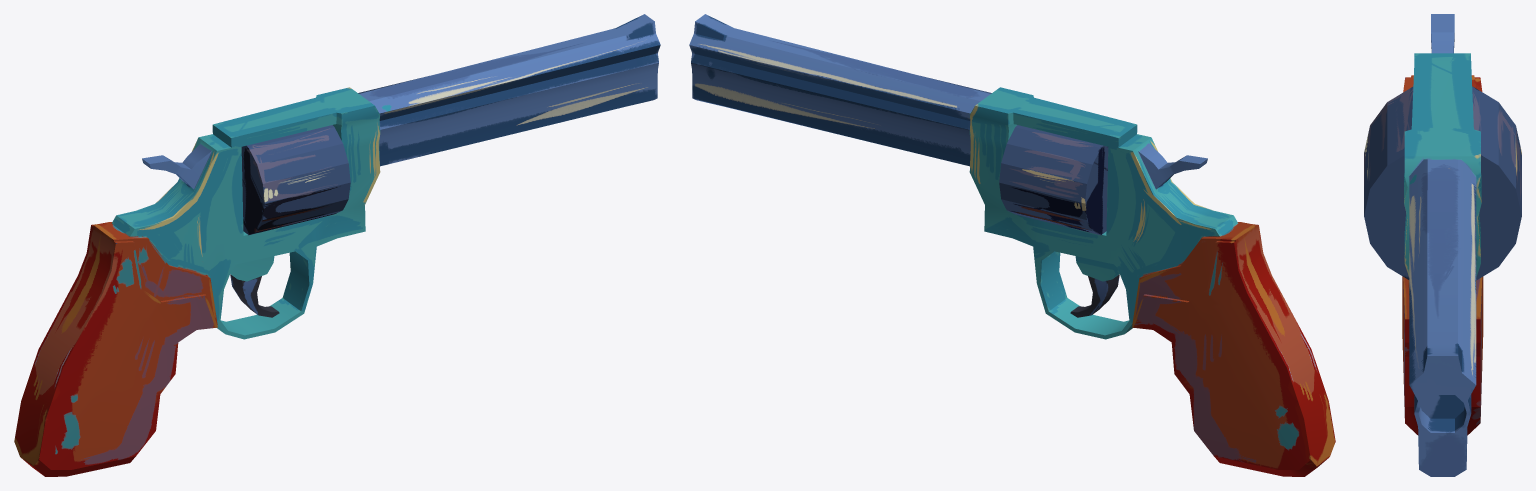
Rendered from Rewolwerfbx.fbx.
3 renders of one model, left to right at view 1: azimuth 30°, elevation 25°; view 2: azimuth 150°, elevation 25°; view 3: azimuth 270°, elevation 25°, orthographic. The views are drawn at different scales.
Parts seen in each view (by area): view 1: Cube.008, Cube.010, Cube.009; view 2: Cube.008, Cube.010, Cube.009; view 3: Cube.008, Cube.010.
Boxes of the visible parts, x1,y1,x2,y2 form: Cube.008: [14, 14, 660, 476]; Cube.010: [241, 125, 350, 235]; Cube.009: [230, 274, 279, 317]; Cube.008: [689, 14, 1335, 476]; Cube.010: [999, 125, 1108, 235]; Cube.009: [1070, 274, 1119, 317]; Cube.008: [1402, 14, 1483, 476]; Cube.010: [1364, 86, 1521, 280].
Bounding box in the file's own units: 29.77 × 14.25 × 4.3.
